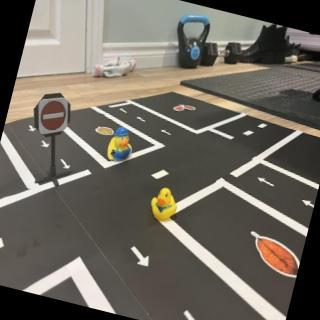duck_regular: (146, 183, 183, 225)
duck_specialty: (104, 123, 140, 167)
road_oneway: (127, 242, 157, 271), (176, 305, 218, 320), (256, 173, 278, 191), (299, 195, 317, 210), (57, 157, 73, 173), (158, 126, 175, 139), (134, 113, 149, 125), (26, 123, 38, 136), (40, 139, 51, 151), (117, 106, 130, 116)
sign_noentry: (31, 91, 76, 143)
